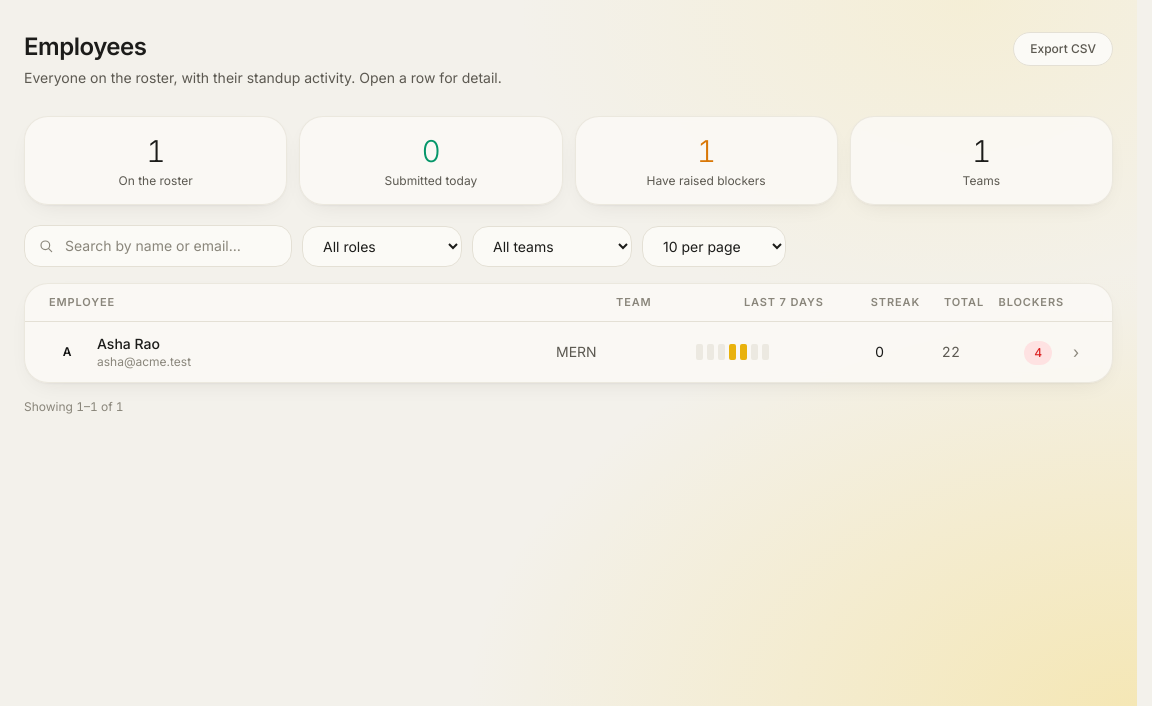
Test case: opening somebody on the roster › says nothing about pay to a reader whose role does not
This screenshot has width=1152, height=706.
Click the button "A Asha Rao asha@acme.test MERN 0 22 4 ›".
click(568, 352)  # box [25, 322, 1112, 382]
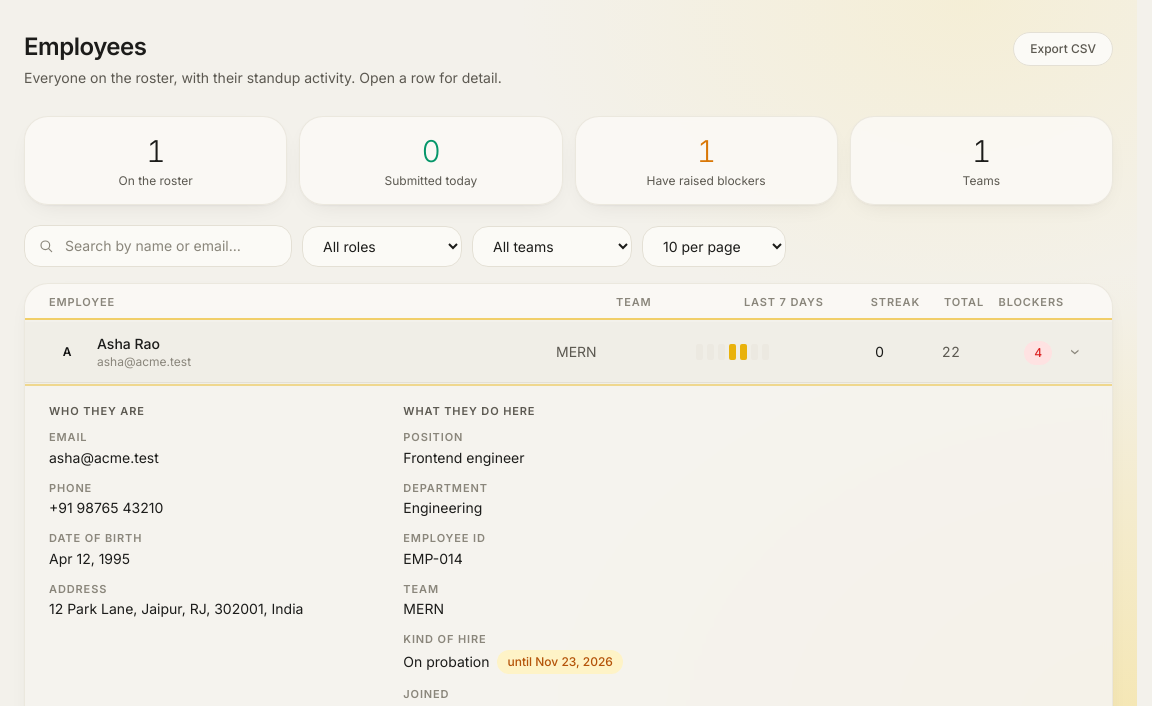
Expected: the text "Frontend engineer" is shown, [403, 449, 524, 466]
